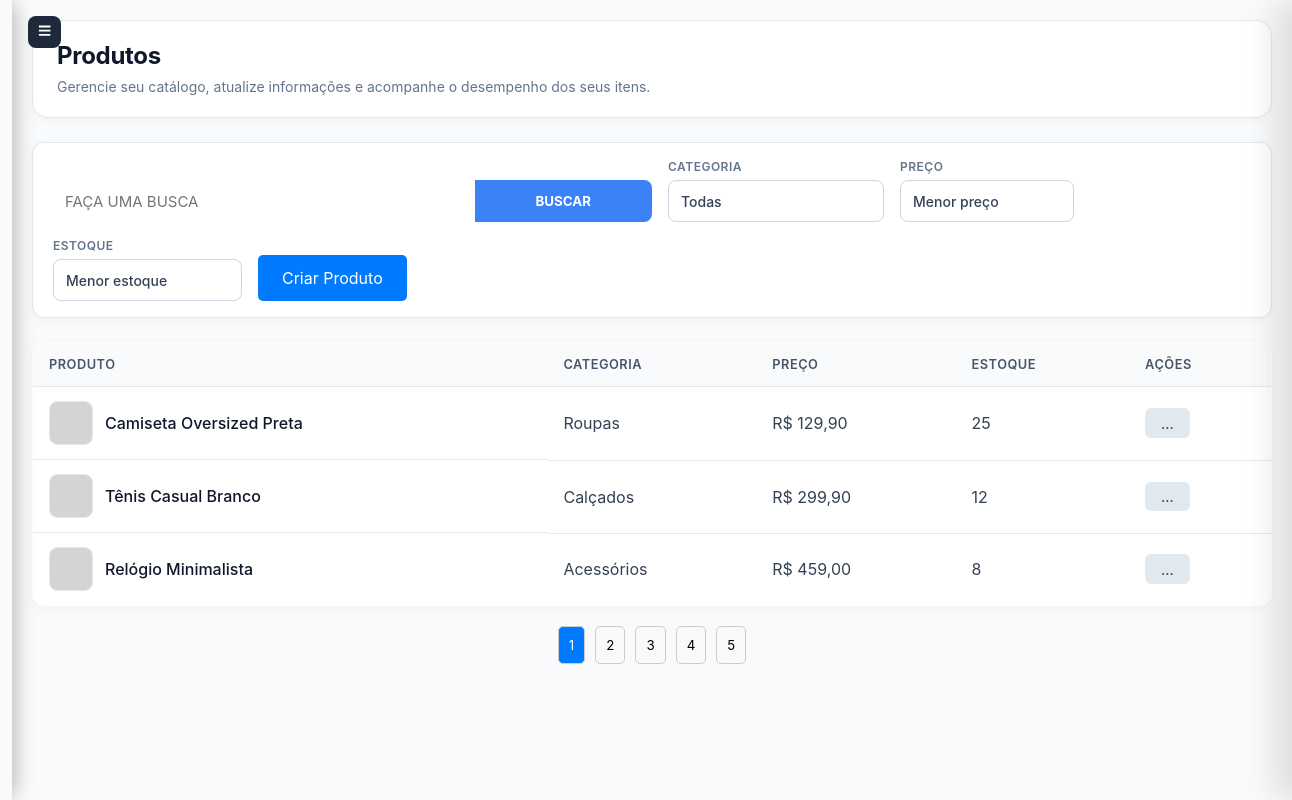
Test: store/product filters › should update the URL correctly with the page params
Click the button named "Ir para página 2".
click(610, 645)  # box [595,626,625,664]
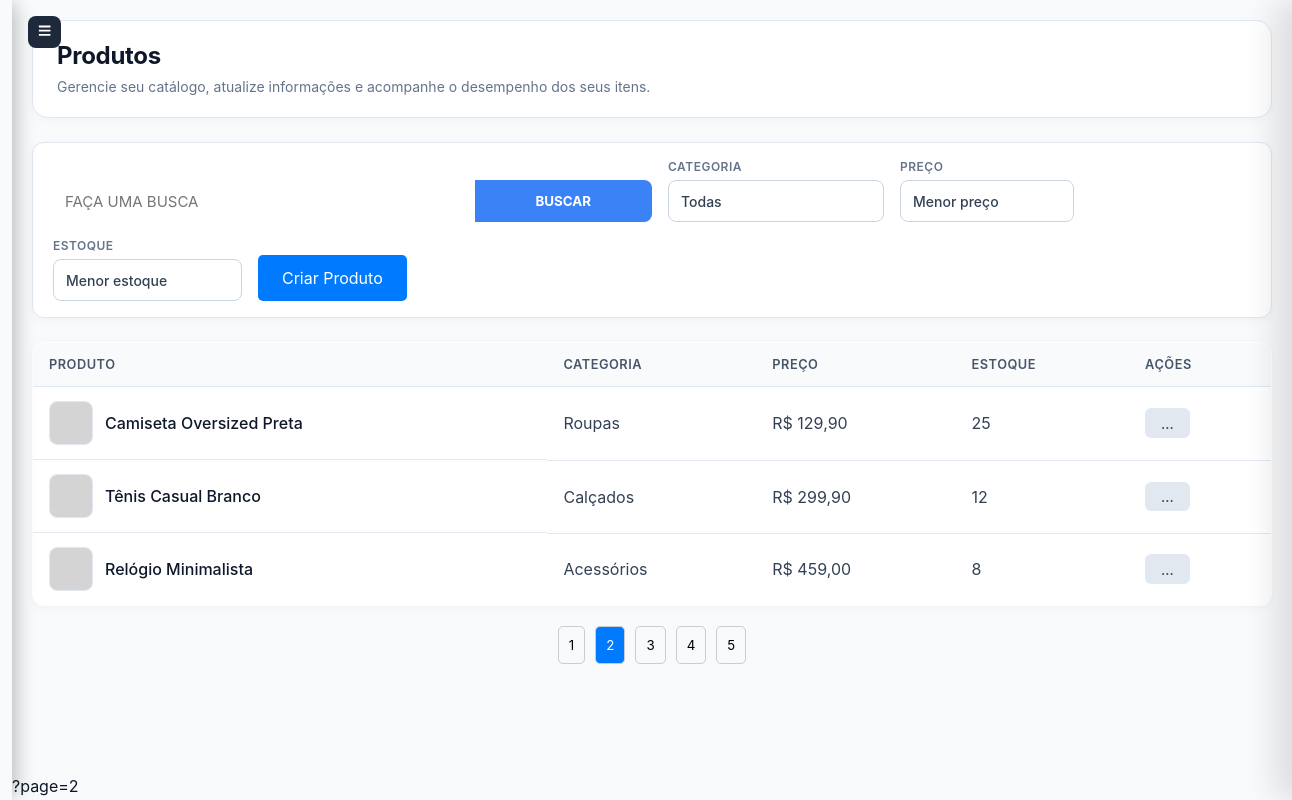
Result: the text with test id "location" reads "?page=2" at [12,776,79,796]
